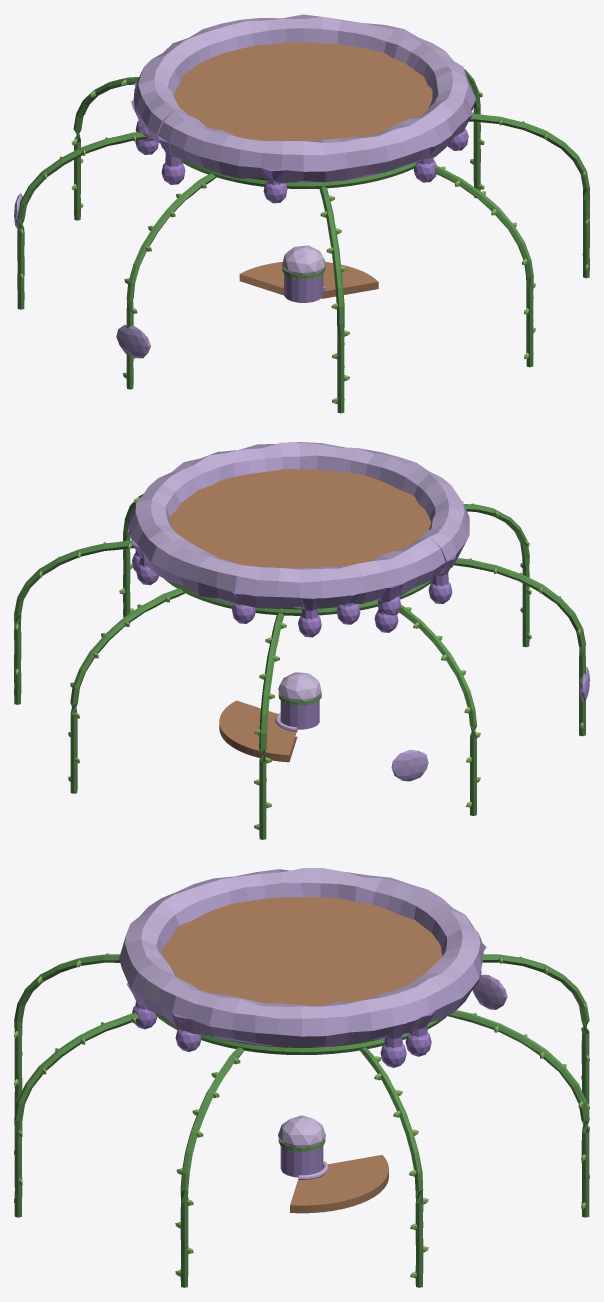
File: goo_jar_trim_4_top@mushroom.fbx
The picture shows the model from 3 angles, top to bottom: view 1: azimuth 30°, elevation 25°; view 2: azimuth 150°, elevation 25°; view 3: azimuth 270°, elevation 25°; orthographic projection. The views are drawn at different scales.
Parts seen in each view (by area): view 1: goo_jar_trim_4_top; view 2: goo_jar_trim_4_top; view 3: goo_jar_trim_4_top.
Boxes of the visible parts, bbox=[...] form: goo_jar_trim_4_top: bbox=[14, 14, 589, 413]; goo_jar_trim_4_top: bbox=[14, 442, 589, 839]; goo_jar_trim_4_top: bbox=[14, 868, 589, 1287].
Size of the model in its own units: 41.05 by 18.79 by 40.68.
